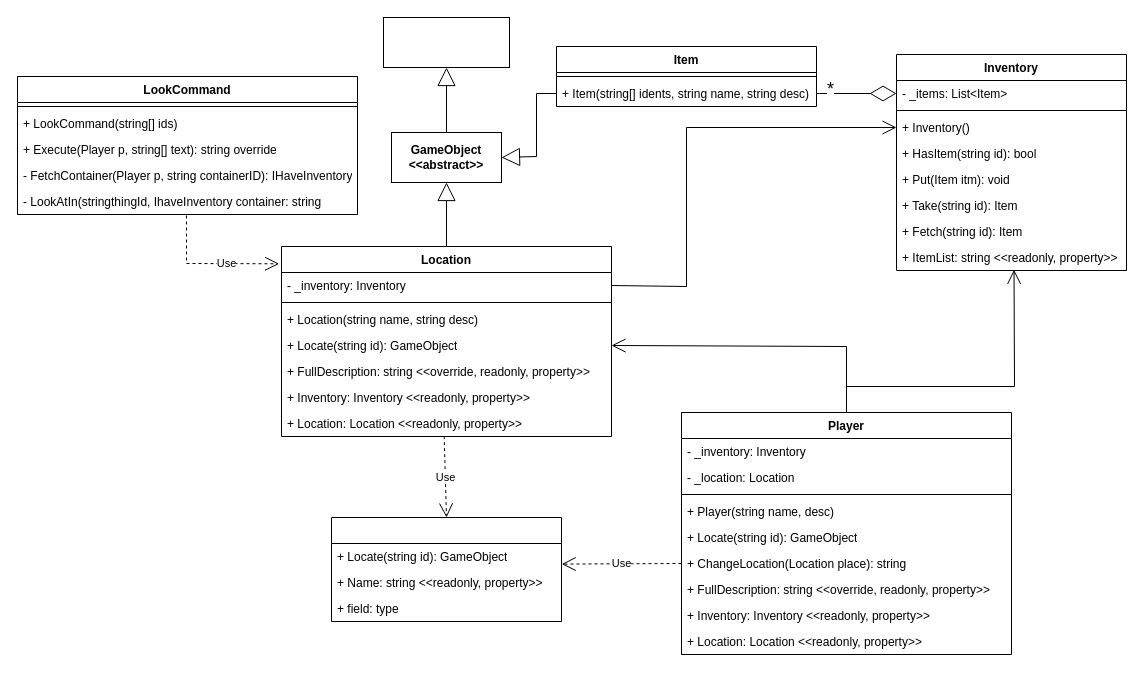
The diagram is 1144 pixels wide and 675 high, and some of its shapes have lost their labels. The box of each missing label's shape, as (x1, y1, x2, y2) in pixels:
IdentifiableObjects: (382, 16, 510, 68)
IHaveInventory: (330, 516, 562, 622)
